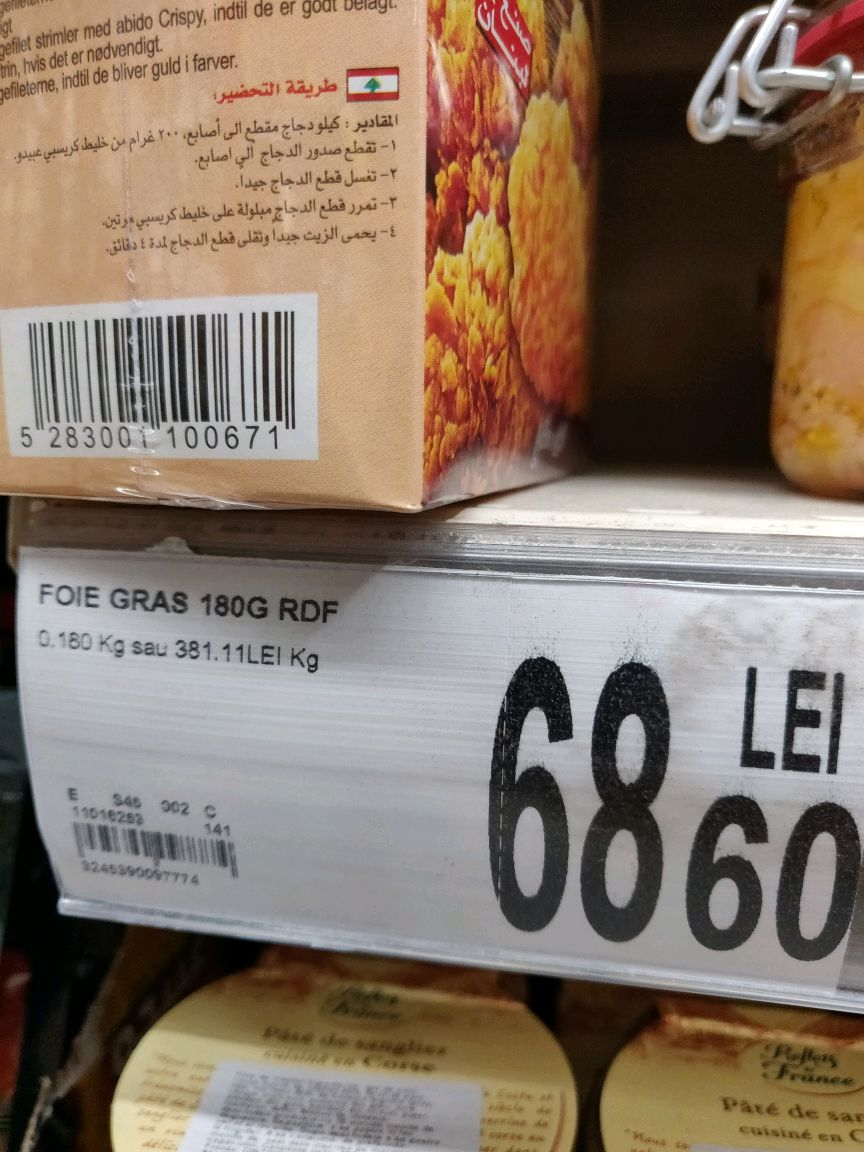price_bani: (680, 781, 862, 970)
price_lei: (440, 650, 675, 948)
price_tag: (6, 536, 862, 1012)
product_id: (72, 858, 206, 897)
product_name: (22, 575, 362, 628)
